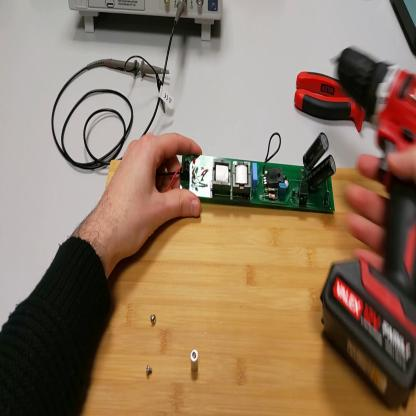electric screwdriver: (320, 41, 416, 415)
hand: (102, 132, 203, 260), (347, 136, 416, 305)
high voltage board: (159, 130, 337, 212)
oscilloscope: (69, 2, 225, 45)
oscilloscope probe tip: (101, 57, 172, 84)
pliers: (294, 72, 372, 135)
welder station: (393, 2, 416, 54)
working area: (80, 159, 416, 415)
